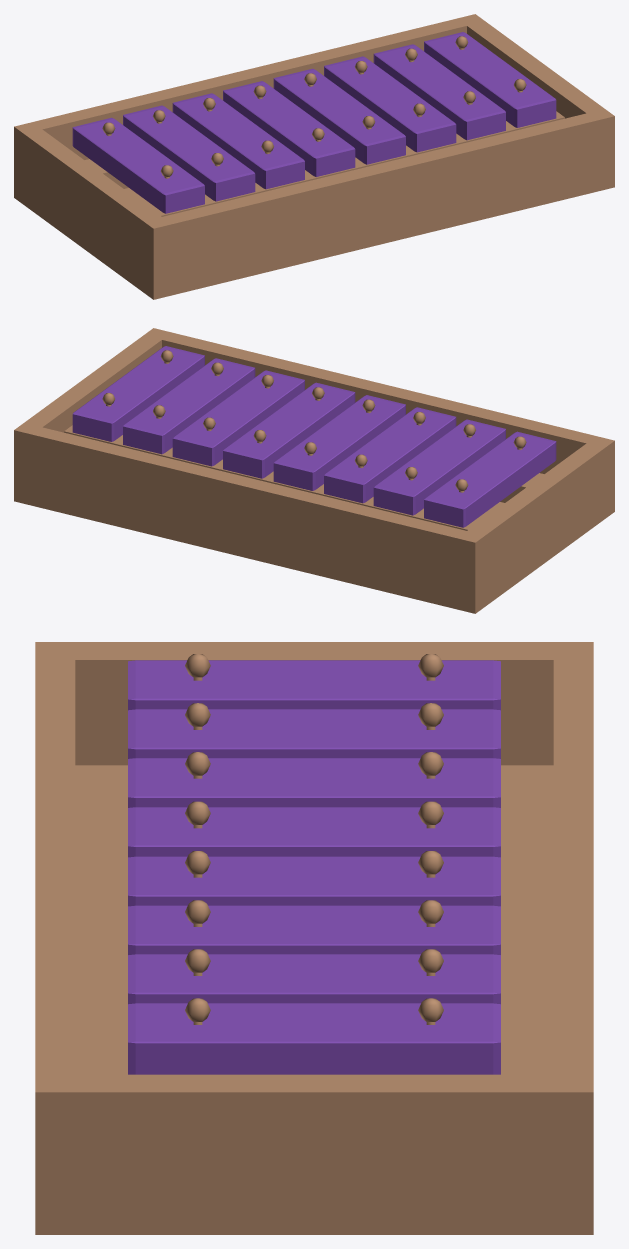
Rendered from MusicalInstrument_001.fbx.
The picture shows the model from 3 angles, top to bottom: view 1: azimuth 30°, elevation 25°; view 2: azimuth 150°, elevation 25°; view 3: azimuth 270°, elevation 25°; orthographic projection. The views are drawn at different scales.
Visible parts, largest first — view 1: Cube.003, Cube.002, Cube.007, Cube.004, Cube.001, Cube.006, Cube.008, Cube.005, Cube.009; view 2: Cube.003, Cube.002, Cube.007, Cube.004, Cube.001, Cube.006, Cube.008, Cube.005, Cube.009; view 3: Cube.003, Cube.001, Cube.005, Cube.007, Cube.002, Cube.006, Cube.009, Cube.008, Cube.004.
Part boxes in pixels (left/top/right/bottom): Cube.003: left=14, top=14, right=614, bottom=299; Cube.002: left=72, top=117, right=204, bottom=213; Cube.007: left=273, top=68, right=405, bottom=164; Cube.004: left=123, top=105, right=255, bottom=201; Cube.001: left=424, top=32, right=556, bottom=127; Cube.006: left=223, top=81, right=355, bottom=176; Cube.008: left=324, top=56, right=456, bottom=152; Cube.005: left=172, top=93, right=304, bottom=189; Cube.009: left=373, top=44, right=505, bottom=140; Cube.003: left=14, top=328, right=614, bottom=613; Cube.002: left=424, top=431, right=556, bottom=527; Cube.007: left=223, top=382, right=355, bottom=478; Cube.004: left=373, top=419, right=505, bottom=515; Cube.001: left=72, top=346, right=204, bottom=441; Cube.006: left=273, top=395, right=405, bottom=490; Cube.008: left=172, top=370, right=304, bottom=466; Cube.005: left=324, top=407, right=456, bottom=503; Cube.009: left=123, top=358, right=255, bottom=454; Cube.003: left=35, top=642, right=593, bottom=1234; Cube.001: left=128, top=1003, right=500, bottom=1074; Cube.005: left=128, top=758, right=500, bottom=807; Cube.007: left=128, top=856, right=500, bottom=906; Cube.002: left=128, top=660, right=500, bottom=710; Cube.006: left=128, top=807, right=500, bottom=857; Cube.009: left=128, top=954, right=500, bottom=1004; Cube.008: left=128, top=905, right=500, bottom=954; Cube.004: left=128, top=709, right=500, bottom=758.
Bounding box in the file's own units: 73.23 × 13.91 × 38.37.
